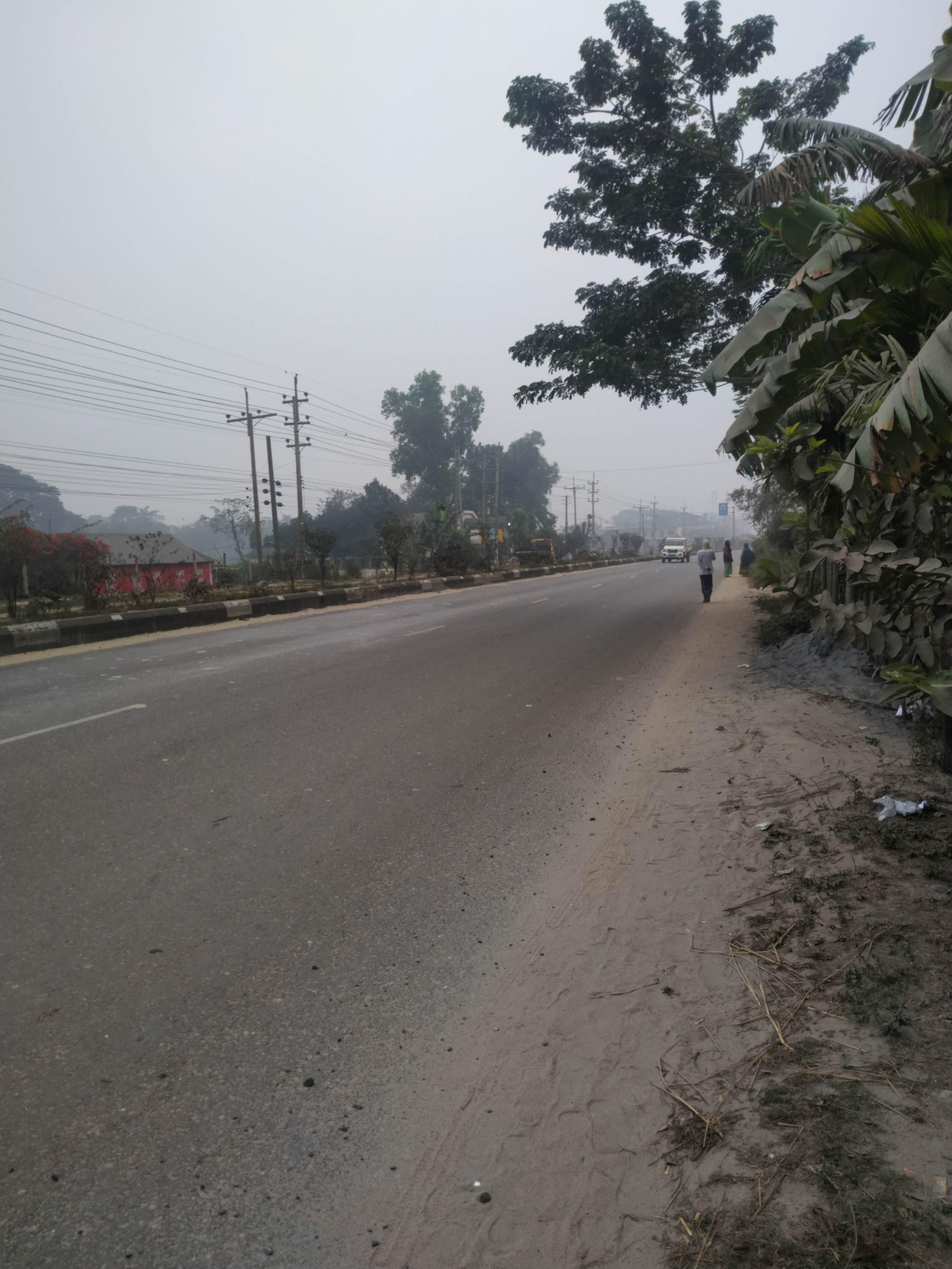Truck: (651, 525, 697, 572)
